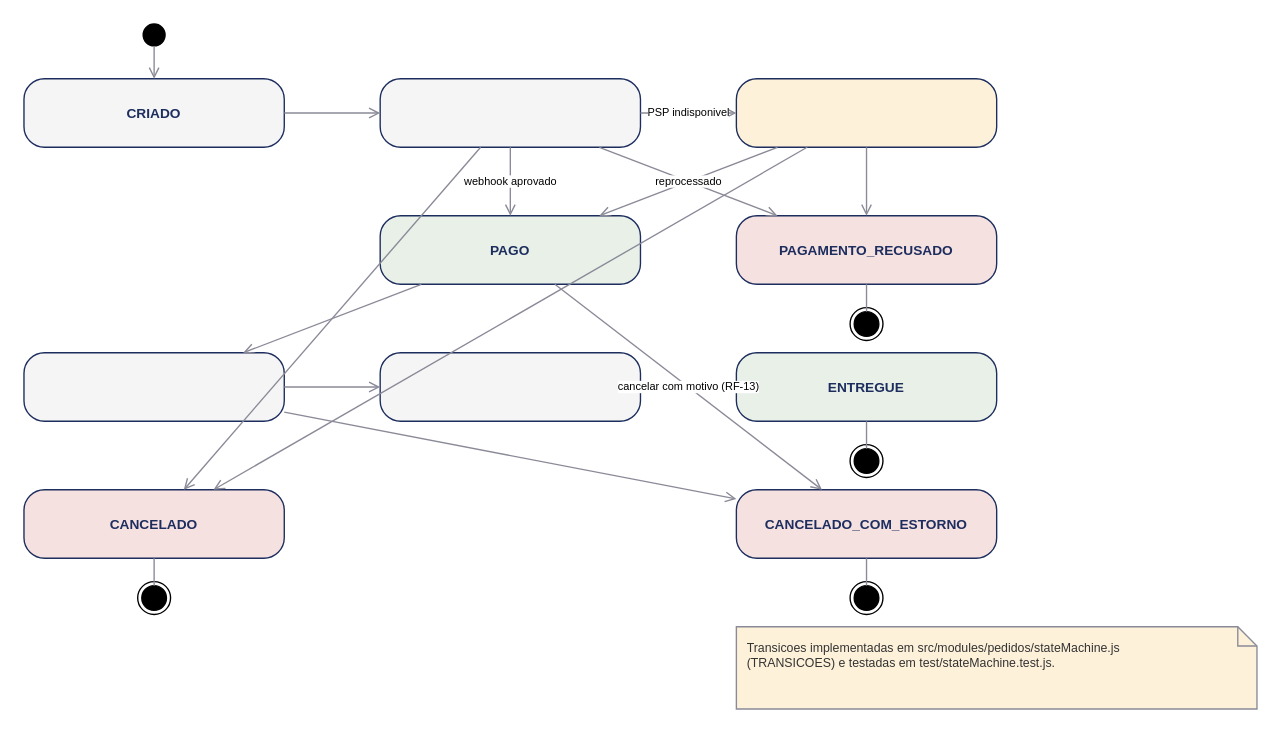
This 1281x733 diagram has some shape labels left out. Each missing label, with the centre of its shape:
AGUARDANDO_PAGAMENTO: the point at 509,112
EM_PREPARO: the point at 153,386
PAGAMENTO_PENDENTE: the point at 866,112
PRONTO: the point at 509,386
